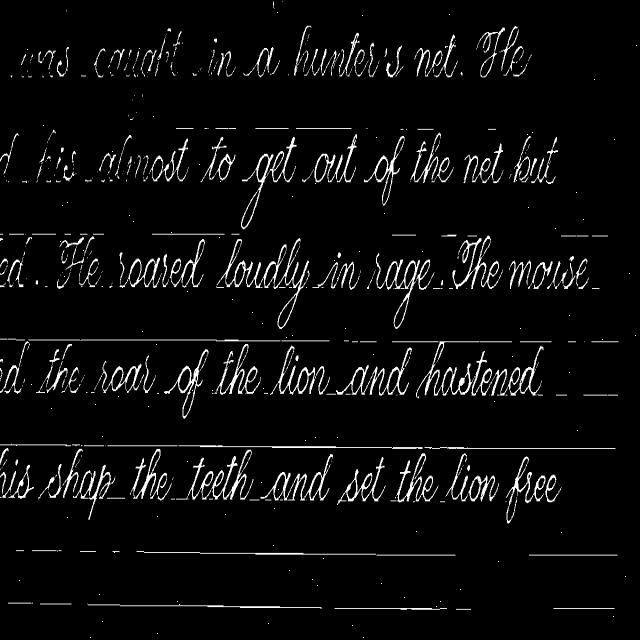noise: (0, 439, 616, 452), (0, 337, 330, 346), (135, 548, 456, 557), (86, 601, 327, 609), (390, 340, 552, 348), (330, 604, 472, 612), (526, 548, 618, 557), (556, 388, 618, 396), (7, 601, 74, 607), (550, 606, 614, 612), (78, 546, 120, 555), (16, 548, 64, 555), (152, 233, 224, 236), (591, 280, 604, 296), (342, 340, 378, 344), (295, 127, 352, 129), (581, 340, 618, 343), (566, 332, 576, 343), (255, 126, 290, 129), (560, 234, 608, 236), (466, 231, 479, 238), (391, 233, 416, 236), (416, 128, 434, 132), (171, 494, 184, 499), (176, 127, 194, 130), (106, 497, 124, 500), (30, 232, 56, 234), (9, 232, 26, 235), (441, 233, 457, 236), (215, 127, 236, 129), (92, 233, 104, 236), (20, 179, 28, 183), (487, 128, 496, 131), (400, 128, 408, 131), (231, 233, 239, 236), (249, 498, 259, 500), (80, 233, 86, 236), (64, 233, 70, 236), (0, 232, 4, 236), (204, 127, 209, 130)
not-noise: (210, 236, 589, 327), (79, 26, 468, 84), (240, 134, 359, 228), (54, 244, 207, 292), (418, 341, 544, 396), (362, 132, 456, 205), (90, 135, 235, 181), (36, 343, 156, 394), (461, 136, 556, 183), (38, 450, 114, 500), (506, 456, 562, 523), (336, 348, 411, 395), (185, 450, 254, 500), (260, 453, 333, 500), (470, 27, 532, 78), (166, 348, 208, 419), (270, 347, 329, 395), (98, 153, 189, 181), (214, 343, 262, 395), (446, 453, 498, 501), (56, 235, 98, 288), (338, 457, 385, 503), (394, 453, 438, 501), (130, 449, 171, 500), (36, 131, 76, 181), (0, 446, 35, 499), (0, 255, 54, 289), (20, 46, 76, 77), (0, 236, 32, 287), (0, 340, 29, 393), (0, 133, 18, 179), (286, 238, 300, 285), (194, 238, 204, 268), (88, 491, 97, 519), (128, 114, 134, 121)
